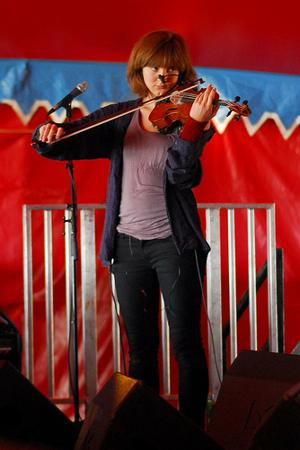person: (31, 31, 221, 433)
